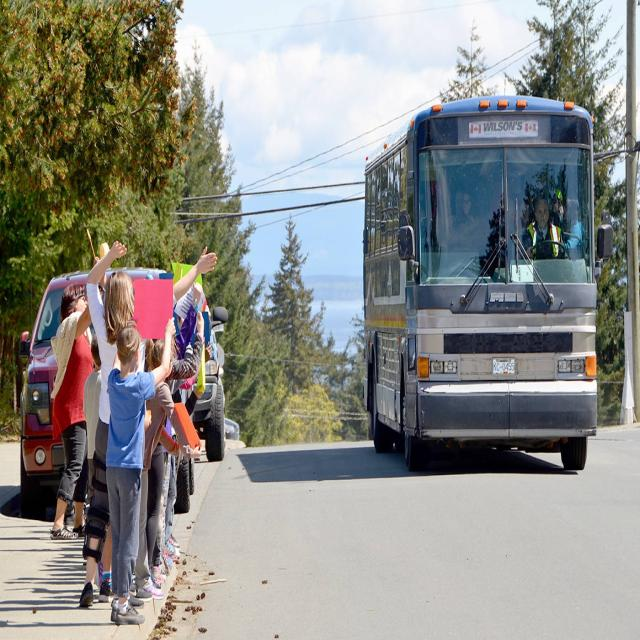body: (77, 239, 220, 599), (103, 314, 179, 628), (134, 278, 212, 578), (49, 255, 106, 537), (427, 185, 585, 251), (83, 332, 114, 603), (144, 310, 206, 384), (522, 197, 569, 261)
